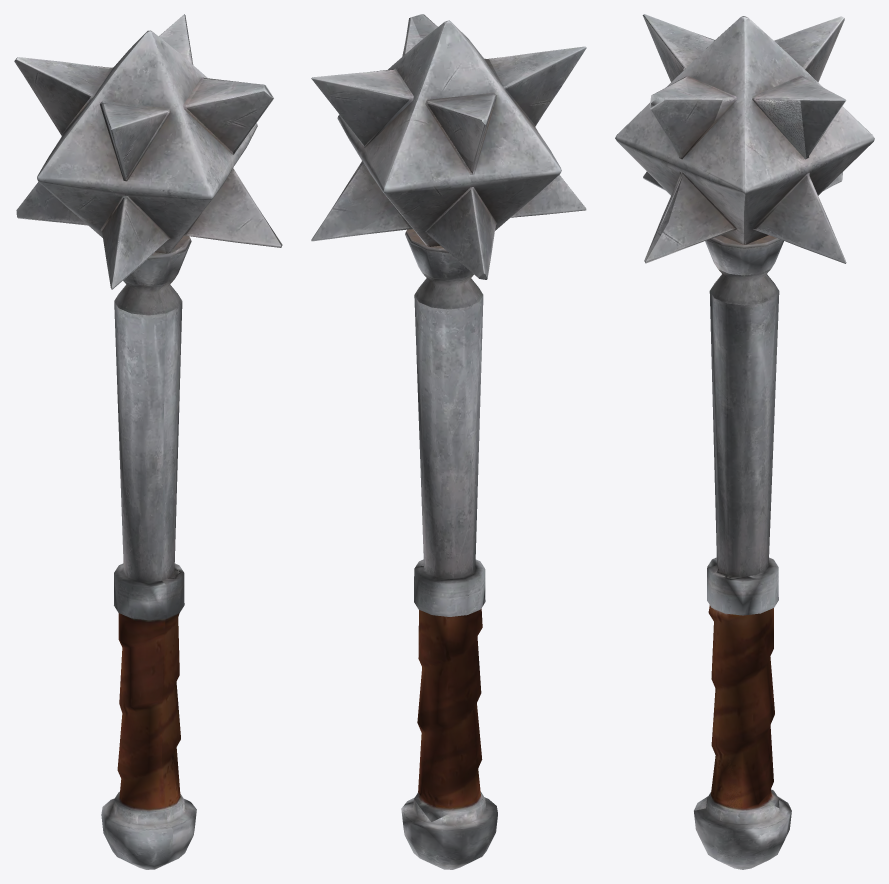
3 views of the same model, side by side, from view 1: azimuth 30°, elevation 25°; view 2: azimuth 150°, elevation 25°; view 3: azimuth 270°, elevation 25° (orthographic).
Parts seen in each view (by area): view 1: SM_Mace_Iron_1H_01_LOD0; view 2: SM_Mace_Iron_1H_01_LOD0; view 3: SM_Mace_Iron_1H_01_LOD0.
Boxes of the visible parts, x1=… form: SM_Mace_Iron_1H_01_LOD0: x1=14, y1=14, x2=282, y2=869; SM_Mace_Iron_1H_01_LOD0: x1=311, y1=14, x2=586, y2=869; SM_Mace_Iron_1H_01_LOD0: x1=615, y1=14, x2=874, y2=869.
Bounding box in the file's own units: 0.2366 × 0.8572 × 0.2373.
1 material, 1 textured.
